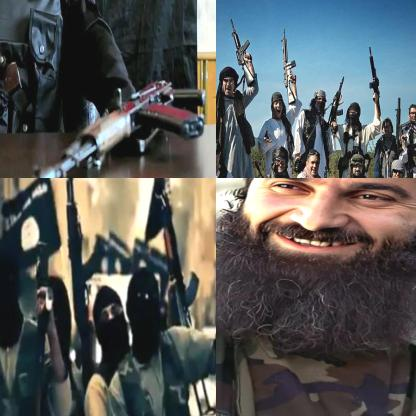rifle: (25, 76, 209, 177), (149, 178, 213, 415), (59, 178, 109, 349), (227, 15, 257, 92), (280, 27, 299, 108), (364, 44, 383, 120), (326, 74, 348, 136), (393, 97, 411, 151), (249, 156, 282, 177)
